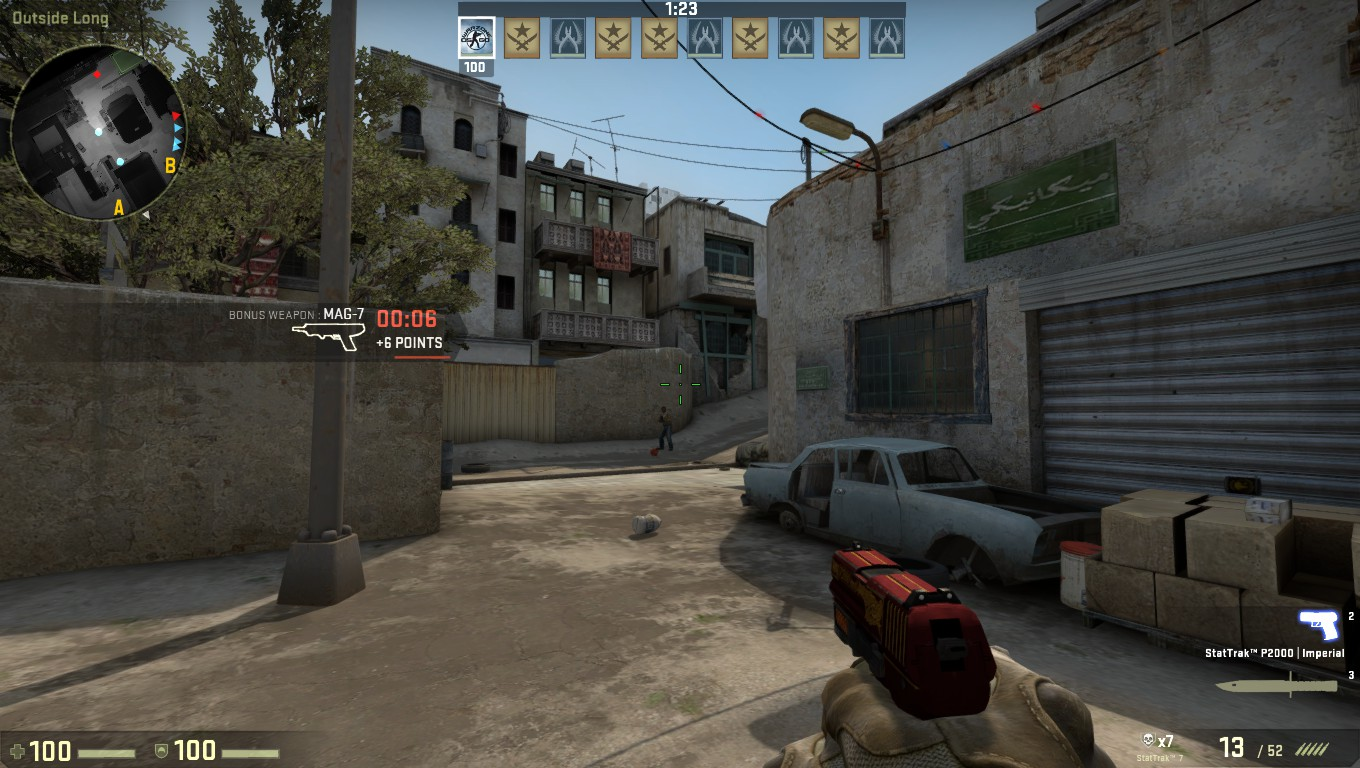t: (656, 406, 675, 449)
